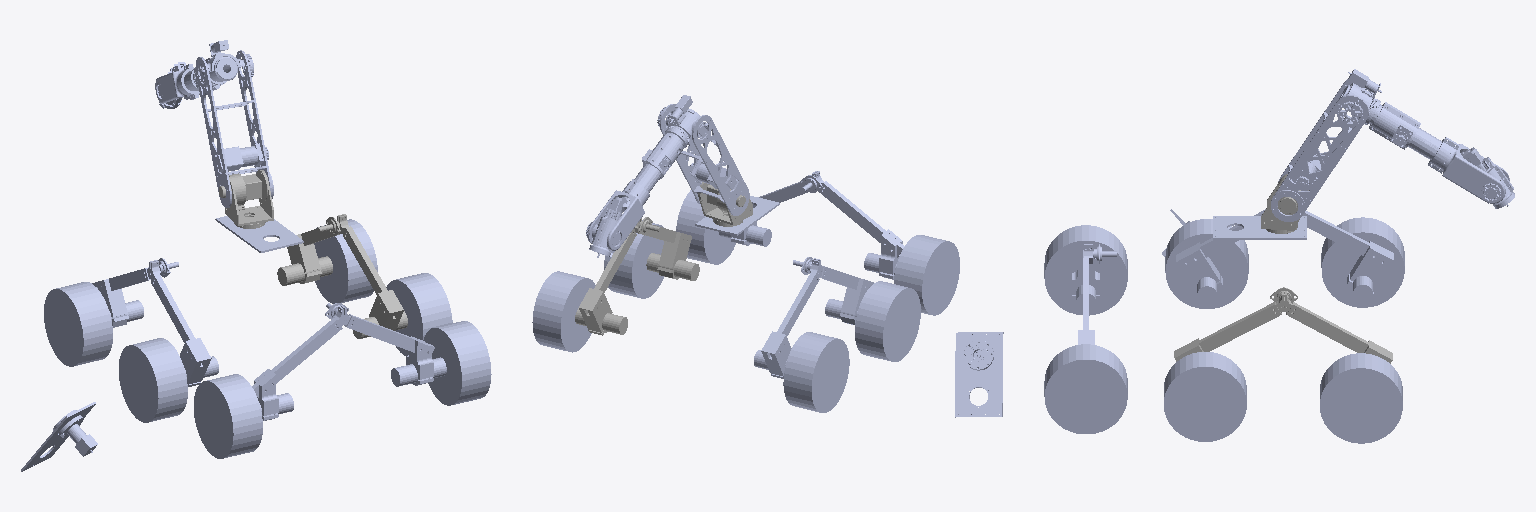
robot.urdf — Full_Assembly:
<?xml version="1.0" encoding="utf-8"?>
<!-- This URDF was automatically created by SolidWorks to URDF Exporter! Originally created by [author] ([email redacted]) 
     Commit Version: 1.6.0-4-g7f85cfe  Build Version: 1.6.7995.38578
     For more information, please see http://wiki.ros.org/sw_urdf_exporter -->
<robot
  name="Full_Assembly">
  <link
    name="Chassis_Frame">
    <inertial>
      <origin
        xyz="0.019745 -0.0030165 0.68744"
        rpy="0 0 0" />
      <mass
        value="16.261" />
      <inertia
        ixx="0.13729"
        ixy="5.7892E-06"
        ixz="8.1421E-07"
        iyy="0.28071"
        iyz="1.9925E-06"
        izz="0.19755" />
    </inertial>
    <visual>
      <origin
        xyz="0 0 0"
        rpy="0 0 0" />
      <geometry>
        <mesh
          filename="package://rover_description/meshes/base_link.STL" />
      </geometry>
      <material
        name="">
        <color
          rgba="0.79216 0.81961 0.93333 1" />
      </material>
    </visual>
    <collision>
      <origin
        xyz="0 0 0"
        rpy="0 0 0" />
      <geometry>
        <mesh
          filename="package://rover_description/meshes/base_link.STL" />
      </geometry>
    </collision>
  </link>
  <link
    name="Left_Bogie">
    <inertial>
      <origin
        xyz="0.0073281 0.26318 -0.17042"
        rpy="0 0 0" />
      <mass
        value="3.3412" />
      <inertia
        ixx="0.0081828"
        ixy="8.0231E-09"
        ixz="8.4738E-11"
        iyy="0.0056985"
        iyz="0.0010554"
        izz="0.0069193" />
    </inertial>
    <visual>
      <origin
        xyz="0 0 0"
        rpy="0 0 0" />
      <geometry>
        <mesh
          filename="package://rover_description/meshes/Left_Bogie.STL" />
      </geometry>
      <material
        name="">
        <color
          rgba="0.79216 0.81961 0.93333 1" />
      </material>
    </visual>
    <collision>
      <origin
        xyz="0 0 0"
        rpy="0 0 0" />
      <geometry>
        <mesh
          filename="package://rover_description/meshes/Left_Bogie.STL" />
      </geometry>
    </collision>
  </link>
  <joint
    name="Left_Connect"
    type="fixed">
    <origin
      xyz="-0.3042 -0.049685 -0.1836"
      rpy="0.51305 0 3.1416" />
    <parent
      link="Chassis_Frame" />
    <child
      link="Left_Bogie" />
    <axis
      xyz="0 0.87125 -0.49083" />
    <limit
      lower="0"
      upper="0"
      effort="0"
      velocity="0" />
  </joint>
  <link
    name="Left_Bogie_Front_Wheel">
    <inertial>
      <origin
        xyz="0.130564845809255 0.0138364458137181 0.0507999999999999"
        rpy="0 0 0" />
      <mass
        value="4.54890356187038" />
      <inertia
        ixx="0.0201202982558325"
        ixy="4.33680868994202E-19"
        ixz="-7.49449804390759E-19"
        iyy="0.0201202982558325"
        iyz="3.12256934504413E-18"
        izz="0.0324145415197282" />
    </inertial>
    <visual>
      <origin
        xyz="0 0 0"
        rpy="0 0 0" />
      <geometry>
        <mesh
          filename="package://rover_description/meshes/Left_Bogie_Front_Wheel.STL" />
      </geometry>
      <material
        name="">
        <color
          rgba="0.792156862745098 0.819607843137255 0.933333333333333 1" />
      </material>
    </visual>
    <collision>
      <origin
        xyz="0 0 0"
        rpy="0 0 0" />
      <geometry>
        <mesh
          filename="package://rover_description/meshes/Left_Bogie_Front_Wheel.STL" />
      </geometry>
    </collision>
  </link>
  <joint
    name="Left_Connect_Front"
    type="continuous">
    <origin
      xyz="0.082925 -0.074392 -0.045555"
      rpy="1.5708 0.61863 1.5708" />
    <parent
      link="Left_Bogie" />
    <child
      link="Left_Bogie_Front_Wheel" />
    <axis
      xyz="0.99443 0.10538 0" />
    <limit
      lower="0"
      upper="0"
      effort="0"
      velocity="0" />
  </joint>
  <link
    name="Left_Bogie_Back_Wheel">
    <inertial>
      <origin
        xyz="0.11938 -5.55111512312578E-17 -0.0508000000000001"
        rpy="0 0 0" />
      <mass
        value="4.54890356187038" />
      <inertia
        ixx="0.0201202982558325"
        ixy="-1.37812516427891E-33"
        ixz="7.34366271496856E-19"
        iyy="0.0201202982558325"
        iyz="3.09652182247156E-18"
        izz="0.0324145415197282" />
    </inertial>
    <visual>
      <origin
        xyz="0 0 0"
        rpy="0 0 0" />
      <geometry>
        <mesh
          filename="package://rover_description/meshes/Left_Bogie_Back_Wheel.STL" />
      </geometry>
      <material
        name="">
        <color
          rgba="0.792156862745098 0.819607843137255 0.933333333333333 1" />
      </material>
    </visual>
    <collision>
      <origin
        xyz="0 0 0"
        rpy="0 0 0" />
      <geometry>
        <mesh
          filename="package://rover_description/meshes/Left_Bogie_Back_Wheel.STL" />
      </geometry>
    </collision>
  </link>
  <joint
    name="Left_Connect_Back"
    type="continuous">
    <origin
      xyz="0.082925 0.32306 -0.27488"
      rpy="-1.5708 0.51305 1.5708" />
    <parent
      link="Left_Bogie" />
    <child
      link="Left_Bogie_Back_Wheel" />
    <axis
      xyz="1 0 0" />
    <limit
      lower="0"
      upper="0"
      effort="0"
      velocity="0" />
  </joint>
  <link
    name="Right_Bogie">
    <inertial>
      <origin
        xyz="-0.313254747777612 -0.18264536433249 0.0354994663678213"
        rpy="0 0 0" />
      <mass
        value="3.34124121849343" />
      <inertia
        ixx="0.00508994978325339"
        ixy="2.4814466779376E-05"
        ixz="6.9485935182769E-09"
        iyy="0.00752780533653533"
        iyz="4.01185960582563E-09"
        izz="0.0081827901963465" />
    </inertial>
    <visual>
      <origin
        xyz="0 0 0"
        rpy="0 0 0" />
      <geometry>
        <mesh
          filename="package://rover_description/meshes/Right_Bogie.STL" />
      </geometry>
      <material
        name="">
        <color
          rgba="0.752941176470588 0.752941176470588 0.752941176470588 1" />
      </material>
    </visual>
    <collision>
      <origin
        xyz="0 0 0"
        rpy="0 0 0" />
      <geometry>
        <mesh
          filename="package://rover_description/meshes/Right_Bogie.STL" />
      </geometry>
    </collision>
  </link>
  <joint
    name="Right_Connect"
    type="fixed">
    <origin
      xyz="0.3105 -0.053202 -0.020263"
      rpy="1.5708 0 1.5708" />
    <parent
      link="Chassis_Frame" />
    <child
      link="Right_Bogie" />
    <axis
      xyz="1 0 0" />
    <limit
      lower="0"
      upper="0"
      effort="0"
      velocity="0" />
  </joint>
  <link
    name="Right_Bogie_Front_Wheel">
    <inertial>
      <origin
        xyz="-0.0904301784153555 5.55111512312578E-17 0.0508000000000001"
        rpy="0 0 0" />
      <mass
        value="4.54890356187038" />
      <inertia
        ixx="0.0201202982558325"
        ixy="-4.89110791271853E-33"
        ixz="-7.34366271496863E-19"
        iyy="0.0201202982558325"
        iyz="1.27619897151731E-17"
        izz="0.0324145415197282" />
    </inertial>
    <visual>
      <origin
        xyz="0 0 0"
        rpy="0 0 0" />
      <geometry>
        <mesh
          filename="package://rover_description/meshes/Right_Bogie_Front_Wheel.STL" />
      </geometry>
      <material
        name="">
        <color
          rgba="0.792156862745098 0.819607843137255 0.933333333333333 1" />
      </material>
    </visual>
    <collision>
      <origin
        xyz="0 0 0"
        rpy="0 0 0" />
      <geometry>
        <mesh
          filename="package://rover_description/meshes/Right_Bogie_Front_Wheel.STL" />
      </geometry>
    </collision>
  </link>
  <joint
    name="Right_Connect_Front"
    type="continuous">
    <origin
      xyz="0 -0.24426 0.1111"
      rpy="0 0 0" />
    <parent
      link="Right_Bogie" />
    <child
      link="Right_Bogie_Front_Wheel" />
    <axis
      xyz="1 0 0" />
    <limit
      lower="0"
      upper="0"
      effort="0"
      velocity="0" />
  </joint>
  <link
    name="Right_Bogie_Back_Wheel">
    <inertial>
      <origin
        xyz="-0.130564845809256 -0.013836445813718 0.0508"
        rpy="0 0 0" />
      <mass
        value="4.54890356187038" />
      <inertia
        ixx="0.0201202982558325"
        ixy="4.33680868994202E-19"
        ixz="-2.06450675522236E-18"
        iyy="0.0201202982558325"
        iyz="1.26266851207273E-17"
        izz="0.0324145415197282" />
    </inertial>
    <visual>
      <origin
        xyz="0 0 0"
        rpy="0 0 0" />
      <geometry>
        <mesh
          filename="package://rover_description/meshes/Right_Bogie_Back_Wheel.STL" />
      </geometry>
      <material
        name="">
        <color
          rgba="0.792156862745098 0.819607843137255 0.933333333333333 1" />
      </material>
    </visual>
    <collision>
      <origin
        xyz="0 0 0"
        rpy="0 0 0" />
      <geometry>
        <mesh
          filename="package://rover_description/meshes/Right_Bogie_Back_Wheel.STL" />
      </geometry>
    </collision>
  </link>
  <joint
    name="Right_Connect_Back"
    type="continuous">
    <origin
      xyz="-0.40606 -0.23955 0.1111"
      rpy="0 0 -0.10558" />
    <parent
      link="Right_Bogie" />
    <child
      link="Right_Bogie_Back_Wheel" />
    <axis
      xyz="0.99443 0.10538 0" />
    <limit
      lower="0"
      upper="0"
      effort="0"
      velocity="0" />
  </joint>
  <link
    name="Back_Bogie">
    <inertial>
      <origin
        xyz="-0.000289279887737415 0.063617383840847 -0.0148260057036792"
        rpy="0 0 0" />
      <mass
        value="2.03126342918492" />
      <inertia
        ixx="0.0076939410308437"
        ixy="-1.47557141759034E-05"
        ixz="-6.6684282943255E-09"
        iyy="0.00629537083030239"
        iyz="2.25382545207914E-08"
        izz="0.00234582536528961" />
    </inertial>
    <visual>
      <origin
        xyz="0 0 0"
        rpy="0 0 0" />
      <geometry>
        <mesh
          filename="package://rover_description/meshes/Back_Bogie.STL" />
      </geometry>
      <material
        name="">
        <color
          rgba="0.792156862745098 0.819607843137255 0.933333333333333 1" />
      </material>
    </visual>
    <collision>
      <origin
        xyz="0 0 0"
        rpy="0 0 0" />
      <geometry>
        <mesh
          filename="package://rover_description/meshes/Back_Bogie.STL" />
      </geometry>
    </collision>
  </link>
  <joint
    name="Back_Connect"
    type="fixed">
    <origin
      xyz="0 -0.93191 -0.25941"
      rpy="1.5602 -0.010551 -1.5707" />
    <parent
      link="Chassis_Frame" />
    <child
      link="Back_Bogie" />
    <axis
      xyz="0.00011134 0.010551 -0.99994" />
    <limit
      lower="0"
      upper="0"
      effort="0"
      velocity="0" />
  </joint>
  <link
    name="Back_Bogie_Left_Wheel">
    <inertial>
      <origin
        xyz="-1.14531348801572E-05 -0.00108536680223514 -0.0520615041256314"
        rpy="0 0 0" />
      <mass
        value="4.54890356187038" />
      <inertia
        ixx="0.0201202982558325"
        ixy="-5.42101086242752E-20"
        ixz="-1.75552403538904E-17"
        iyy="0.0201202982558325"
        iyz="-1.1895911365396E-17"
        izz="0.0324145415197282" />
    </inertial>
    <visual>
      <origin
        xyz="0 0 0"
        rpy="0 0 0" />
      <geometry>
        <mesh
          filename="package://rover_description/meshes/Back_Bogie_Left_Wheel.STL" />
      </geometry>
      <material
        name="">
        <color
          rgba="0.792156862745098 0.819607843137255 0.933333333333333 1" />
      </material>
    </visual>
    <collision>
      <origin
        xyz="0 0 0"
        rpy="0 0 0" />
      <geometry>
        <mesh
          filename="package://rover_description/meshes/Back_Bogie_Left_Wheel.STL" />
      </geometry>
    </collision>
  </link>
  <joint
    name="Back_Connect_Left"
    type="continuous">
    <origin
      xyz="0 -0.00069199 0.32718"
      rpy="3.1416 0 3.1205" />
    <parent
      link="Back_Bogie" />
    <child
      link="Back_Bogie_Left_Wheel" />
    <axis
      xyz="0.00011134 0.010551 0.99994" />
    <limit
      lower="0"
      upper="0"
      effort="0"
      velocity="0" />
  </joint>
  <link
    name="Back_Bogie_Right_Wheel">
    <inertial>
      <origin
        xyz="-1.11022302462516E-16 -0.00108528771922412 0.0520482833385267"
        rpy="0 0 0" />
      <mass
        value="4.54890356187038" />
      <inertia
        ixx="0.0201202982558325"
        ixy="-1.56128184385634E-21"
        ixz="6.18841737345298E-18"
        iyy="0.0201202982558325"
        iyz="1.35498166506376E-16"
        izz="0.0324145415197282" />
    </inertial>
    <visual>
      <origin
        xyz="0 0 0"
        rpy="0 0 0" />
      <geometry>
        <mesh
          filename="package://rover_description/meshes/Back_Bogie_Right_Wheel.STL" />
      </geometry>
      <material
        name="">
        <color
          rgba="0.792156862745098 0.819607843137255 0.933333333333333 1" />
      </material>
    </visual>
    <collision>
      <origin
        xyz="0 0 0"
        rpy="0 0 0" />
      <geometry>
        <mesh
          filename="package://rover_description/meshes/Back_Bogie_Right_Wheel.STL" />
      </geometry>
    </collision>
  </link>
  <joint
    name="Back_Connect_Right"
    type="continuous">
    <origin
      xyz="-3.0207E-05 -0.0028626 -0.35685"
      rpy="3.1416 0 -0.010552" />
    <parent
      link="Back_Bogie" />
    <child
      link="Back_Bogie_Right_Wheel" />
    <axis
      xyz="0 0.010552 -0.99994" />
  </joint>
  <link
    name="Arm">
    <inertial>
      <origin
        xyz="-0.0477985055997259 -0.0352326124467943 0.00312955608244202"
        rpy="0 0 0" />
      <mass
        value="0.232083853065316" />
      <inertia
        ixx="0.000808900388660283"
        ixy="-0.00045117057053435"
        ixz="3.23063350248503E-19"
        iyy="0.00108878956515546"
        iyz="2.88580132867235E-19"
        izz="0.0018961637397099" />
    </inertial>
    <visual>
      <origin
        xyz="0 0 0"
        rpy="0 0 0" />
      <geometry>
        <mesh
          filename="package://rover_description/meshes/Arm.STL" />
      </geometry>
      <material
        name="">
        <color
          rgba="0.792156862745098 0.819607843137255 0.933333333333333 1" />
      </material>
    </visual>
    <collision>
      <origin
        xyz="0 0 0"
        rpy="0 0 0" />
      <geometry>
        <mesh
          filename="package://rover_description/meshes/Arm.STL" />
      </geometry>
    </collision>
  </link>
  <joint
    name="Arm"
    type="fixed">
    <origin
      xyz="0.017177 -0.37345 0.064678"
      rpy="-3.1416 0 2.2059" />
    <parent
      link="Chassis_Frame" />
    <child
      link="Arm" />
    <axis
      xyz="0 0 0" />
  </joint>
  <link
    name="Axis_1">
    <inertial>
      <origin
        xyz="0.00533143411780451 -0.00443747075635542 0.0621628028964215"
        rpy="0 0 0" />
      <mass
        value="0.806942884675543" />
      <inertia
        ixx="0.000915177079263181"
        ixy="0.000130358110680842"
        ixz="-5.27078323383203E-05"
        iyy="0.000834903089479575"
        iyz="7.02912626220492E-05"
        izz="0.00094963789281678" />
    </inertial>
    <visual>
      <origin
        xyz="0 0 0"
        rpy="0 0 0" />
      <geometry>
        <mesh
          filename="package://rover_description/meshes/Axis_1.STL" />
      </geometry>
      <material
        name="">
        <color
          rgba="0.752941176470588 0.752941176470588 0.752941176470588 1" />
      </material>
    </visual>
    <collision>
      <origin
        xyz="0 0 0"
        rpy="0 0 0" />
      <geometry>
        <mesh
          filename="package://rover_description/meshes/Axis_1.STL" />
      </geometry>
    </collision>
  </link>
  <joint
    name="J1"
    type="continuous">
    <origin
      xyz="0 0.01 0"
      rpy="3.1416 0 -0.15031" />
    <parent
      link="Arm" />
    <child
      link="Axis_1" />
    <axis
      xyz="0 0 0" />
  </joint>
  <link
    name="Axis_2">
    <inertial>
      <origin
        xyz="-0.0792879650387348 -0.0374774475075469 -0.00119909962756731"
        rpy="0 0 0" />
      <mass
        value="1.11833636541395" />
      <inertia
        ixx="0.0112903031926762"
        ixy="4.91795053354935E-06"
        ixz="9.59984967509602E-07"
        iyy="0.00141194104590659"
        iyz="7.46219989748416E-06"
        izz="0.0110197921139019" />
    </inertial>
    <visual>
      <origin
        xyz="0 0 0"
        rpy="0 0 0" />
      <geometry>
        <mesh
          filename="package://rover_description/meshes/Axis_2.STL" />
      </geometry>
      <material
        name="">
        <color
          rgba="0.792156862745098 0.819607843137255 0.933333333333333 1" />
      </material>
    </visual>
    <collision>
      <origin
        xyz="0 0 0"
        rpy="0 0 0" />
      <geometry>
        <mesh
          filename="package://rover_description/meshes/Axis_2.STL" />
      </geometry>
    </collision>
  </link>
  <joint
    name="J2"
    type="continuous">
    <origin
      xyz="0.1255 -0.050208 0.25442"
      rpy="2.1053 0 0.63509" />
    <parent
      link="Axis_1" />
    <child
      link="Axis_2" />
    <axis
      xyz="0 0 0" />
  </joint>
  <link
    name="Axis_3">
    <inertial>
      <origin
        xyz="-0.177860531990118 -0.229002221909752 -0.168526766868434"
        rpy="0 0 0" />
      <mass
        value="0.315238010654722" />
      <inertia
        ixx="0.000287891199207417"
        ixy="2.11380283665009E-05"
        ixz="-1.05853873569157E-06"
        iyy="0.000297440212924729"
        iyz="-2.52338452951327E-06"
        izz="0.000181117976352556" />
    </inertial>
    <visual>
      <origin
        xyz="0 0 0"
        rpy="0 0 0" />
      <geometry>
        <mesh
          filename="package://rover_description/meshes/Axis_3.STL" />
      </geometry>
      <material
        name="">
        <color
          rgba="0.792156862745098 0.819607843137255 0.933333333333333 1" />
      </material>
    </visual>
    <collision>
      <origin
        xyz="0 0 0"
        rpy="0 0 0" />
      <geometry>
        <mesh
          filename="package://rover_description/meshes/Axis_3.STL" />
      </geometry>
    </collision>
  </link>
  <joint
    name="J3"
    type="continuous">
    <origin
      xyz="-0.23569 -0.087829 -0.0037519"
      rpy="1.5708 0.89688 -1.5708" />
    <parent
      link="Axis_2" />
    <child
      link="Axis_3" />
    <axis
      xyz="0 0 0" />
  </joint>
  <link
    name="Axis_4">
    <inertial>
      <origin
        xyz="-0.000728157152736608 0.000525658570672105 0.175741311829104"
        rpy="0 0 0" />
      <mass
        value="1.04432383241743" />
      <inertia
        ixx="0.00525323858585558"
        ixy="3.11334770659038E-05"
        ixz="6.58925562122348E-06"
        iyy="0.00527392420385386"
        iyz="-4.75671087351871E-06"
        izz="0.00131026306361566" />
    </inertial>
    <visual>
      <origin
        xyz="0 0 0"
        rpy="0 0 0" />
      <geometry>
        <mesh
          filename="package://rover_description/meshes/Axis_4.STL" />
      </geometry>
      <material
        name="">
        <color
          rgba="0.792156862745098 0.819607843137255 0.933333333333333 1" />
      </material>
    </visual>
    <collision>
      <origin
        xyz="0 0 0"
        rpy="0 0 0" />
      <geometry>
        <mesh
          filename="package://rover_description/meshes/Axis_4.STL" />
      </geometry>
    </collision>
  </link>
  <joint
    name="J4"
    type="continuous">
    <origin
      xyz="-0.19367 -0.18832 -0.1742"
      rpy="1.5708 0.94291 -2.2385" />
    <parent
      link="Axis_3" />
    <child
      link="Axis_4" />
    <axis
      xyz="0 0 0" />
  </joint>
  <link
    name="Axis_5">
    <inertial>
      <origin
        xyz="-0.0102060777999421 0.0299772381028147 0.0283371876416308"
        rpy="0 0 0" />
      <mass
        value="0.292157049786524" />
      <inertia
        ixx="0.000350020526589252"
        ixy="4.61969257518864E-05"
        ixz="1.55314231304865E-06"
        iyy="0.000251179817698524"
        iyz="-3.34039930499824E-06"
        izz="0.000356943911820366" />
    </inertial>
    <visual>
      <origin
        xyz="0 0 0"
        rpy="0 0 0" />
      <geometry>
        <mesh
          filename="package://rover_description/meshes/Axis_5.STL" />
      </geometry>
      <material
        name="">
        <color
          rgba="0.792156862745098 0.819607843137255 0.933333333333333 1" />
      </material>
    </visual>
    <collision>
      <origin
        xyz="0 0 0"
        rpy="0 0 0" />
      <geometry>
        <mesh
          filename="package://rover_description/meshes/Axis_5.STL" />
      </geometry>
    </collision>
  </link>
  <joint
    name="J5"
    type="continuous">
    <origin
      xyz="-0.026332 0.019007 0.43639"
      rpy="-1.5708 0.078756 -2.196" />
    <parent
      link="Axis_4" />
    <child
      link="Axis_5" />
    <axis
      xyz="0 0 0" />
  </joint>
  <link
    name="Axis_6">
    <inertial>
      <origin
        xyz="0.032926652089996 0.00543778249297716 0.0226168399991655"
        rpy="0 0 0" />
      <mass
        value="0.150772297399764" />
      <inertia
        ixx="0.000139664763970518"
        ixy="5.12145203214631E-07"
        ixz="8.22255437779973E-08"
        iyy="0.00013880534583195"
        iyz="4.83939019279555E-07"
        izz="6.09308789523862E-05" />
    </inertial>
    <visual>
      <origin
        xyz="0 0 0"
        rpy="0 0 0" />
      <geometry>
        <mesh
          filename="package://rover_description/meshes/Axis_6.STL" />
      </geometry>
      <material
        name="">
        <color
          rgba="0.792156862745098 0.819607843137255 0.933333333333333 1" />
      </material>
    </visual>
    <collision>
      <origin
        xyz="0 0 0"
        rpy="0 0 0" />
      <geometry>
        <mesh
          filename="package://rover_description/meshes/Axis_6.STL" />
      </geometry>
    </collision>
  </link>
  <joint
    name="J6"
    type="continuous">
    <origin
      xyz="0 0 0"
      rpy="1.5708 -1.3993 0.37994" />
    <parent
      link="Axis_5" />
    <child
      link="Axis_6" />
    <axis
      xyz="0 0 0" />
  </joint>
</robot>

--- What the picture shows (computed from the rendered views, not written in the file) ---
3 views of the same robot in one strip: view 1: azimuth 30°, elevation 25°; view 2: azimuth 150°, elevation 25°; view 3: azimuth 270°, elevation 25° (orthographic).
Robot: Full_Assembly — 17 links, 16 joints (12 continuous, 4 fixed); root link Chassis_Frame; default pose: all joints at 0.
Links seen in each view (by area): view 1: Back_Bogie, Back_Bogie_Left_Wheel, Left_Bogie_Front_Wheel, Left_Bogie_Back_Wheel, Right_Bogie, Left_Bogie, Back_Bogie_Right_Wheel, Axis_2, Right_Bogie_Front_Wheel, Right_Bogie_Back_Wheel, Axis_1, Axis_4 (+3 smaller); view 2: Right_Bogie, Left_Bogie_Front_Wheel, Left_Bogie_Back_Wheel, Chassis_Frame, Back_Bogie_Left_Wheel, Left_Bogie, Back_Bogie, Right_Bogie_Front_Wheel, Axis_2, Axis_4, Right_Bogie_Back_Wheel, Back_Bogie_Right_Wheel (+4 smaller); view 3: Back_Bogie_Right_Wheel, Right_Bogie_Front_Wheel, Right_Bogie_Back_Wheel, Left_Bogie, Back_Bogie_Left_Wheel, Axis_2, Axis_4, Left_Bogie_Front_Wheel, Left_Bogie_Back_Wheel, Right_Bogie, Back_Bogie, Arm (+3 smaller).
Link boxes in pixels (x1=…): Back_Bogie: x1=252, y1=303, x2=446, y2=420; Back_Bogie_Left_Wheel: x1=194, y1=374, x2=262, y2=458; Left_Bogie_Front_Wheel: x1=44, y1=282, x2=112, y2=366; Left_Bogie_Back_Wheel: x1=119, y1=338, x2=187, y2=422; Right_Bogie: x1=277, y1=214, x2=407, y2=338; Left_Bogie: x1=92, y1=258, x2=218, y2=386; Back_Bogie_Right_Wheel: x1=423, y1=321, x2=491, y2=405; Axis_2: x1=196, y1=50, x2=273, y2=207; Right_Bogie_Front_Wheel: x1=314, y1=219, x2=377, y2=303; Right_Bogie_Back_Wheel: x1=386, y1=273, x2=452, y2=356; Axis_1: x1=219, y1=170, x2=273, y2=228; Axis_4: x1=155, y1=57, x2=237, y2=103; Right_Bogie: x1=575, y1=217, x2=699, y2=335; Left_Bogie_Front_Wheel: x1=783, y1=332, x2=849, y2=412; Left_Bogie_Back_Wheel: x1=855, y1=281, x2=920, y2=361; Chassis_Frame: x1=955, y1=332, x2=1003, y2=417; Back_Bogie_Left_Wheel: x1=894, y1=235, x2=959, y2=315; Left_Bogie: x1=754, y1=257, x2=873, y2=378; Back_Bogie: x1=719, y1=171, x2=904, y2=279; Right_Bogie_Front_Wheel: x1=532, y1=271, x2=595, y2=352; Axis_2: x1=659, y1=104, x2=749, y2=215; Axis_4: x1=588, y1=112, x2=699, y2=250; Right_Bogie_Back_Wheel: x1=604, y1=220, x2=663, y2=298; Back_Bogie_Right_Wheel: x1=676, y1=190, x2=735, y2=264; Back_Bogie_Right_Wheel: x1=1044, y1=344, x2=1127, y2=433; Right_Bogie_Front_Wheel: x1=1320, y1=353, x2=1402, y2=443; Right_Bogie_Back_Wheel: x1=1164, y1=352, x2=1246, y2=441; Left_Bogie: x1=1176, y1=209, x2=1393, y2=303; Back_Bogie_Left_Wheel: x1=1044, y1=225, x2=1127, y2=315; Axis_2: x1=1271, y1=79, x2=1375, y2=221; Axis_4: x1=1339, y1=86, x2=1509, y2=203; Left_Bogie_Front_Wheel: x1=1321, y1=217, x2=1404, y2=307; Left_Bogie_Back_Wheel: x1=1165, y1=219, x2=1248, y2=308; Right_Bogie: x1=1174, y1=287, x2=1392, y2=363; Back_Bogie: x1=1072, y1=244, x2=1116, y2=344; Arm: x1=1213, y1=216, x2=1306, y2=239.
Size in the robot's own frame: 1.4 by 1.35 by 1.06 metres.
17 mesh visuals loaded from 17 distinct referenced files (17 binary STL).